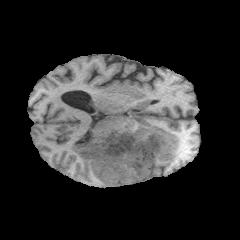glioma: (72, 125, 179, 184)
